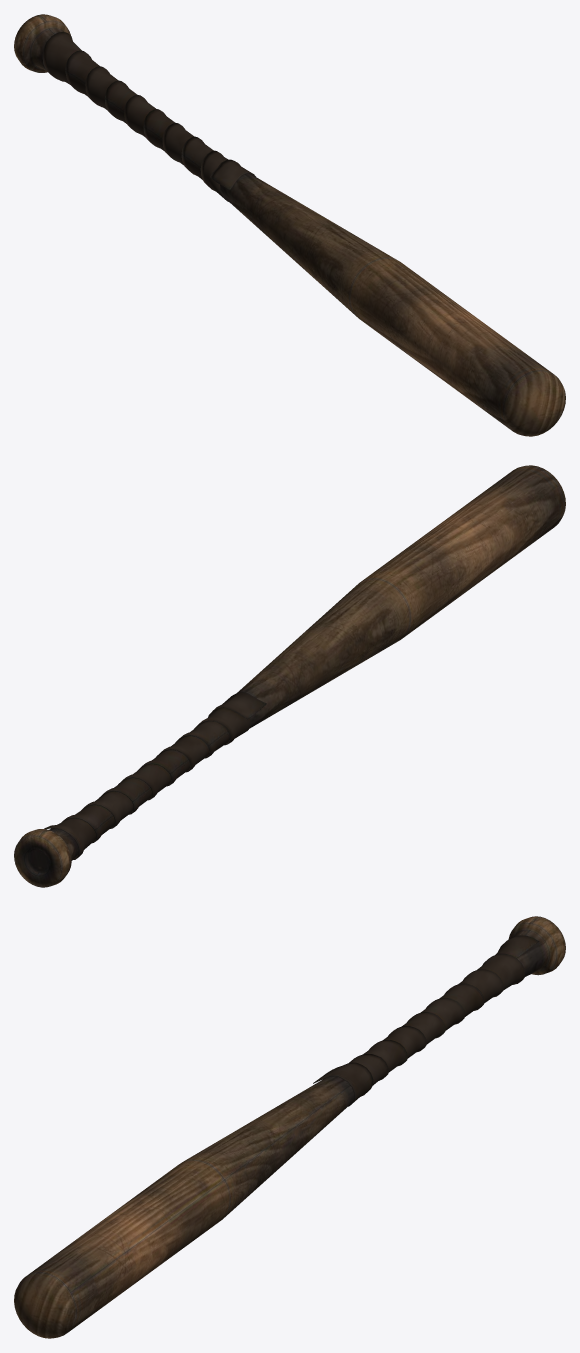
File: bat.glb
The picture shows the model from 3 angles, top to bottom: view 1: azimuth 30°, elevation 25°; view 2: azimuth 150°, elevation 25°; view 3: azimuth 330°, elevation 25°; orthographic projection.
Parts seen in each view (by area): view 1: baseball_bat; view 2: baseball_bat; view 3: baseball_bat.
Part boxes in pixels (x1=…): baseball_bat: x1=14, y1=14, x2=565, y2=436; baseball_bat: x1=14, y1=465, x2=565, y2=887; baseball_bat: x1=14, y1=916, x2=565, y2=1338.
Bounding box in the file's own units: 0.0635 × 0.0635 × 0.9132.
1 material, 1 textured.
